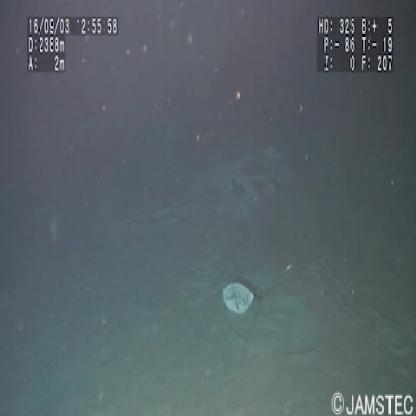Rác: (220, 276, 259, 317)
